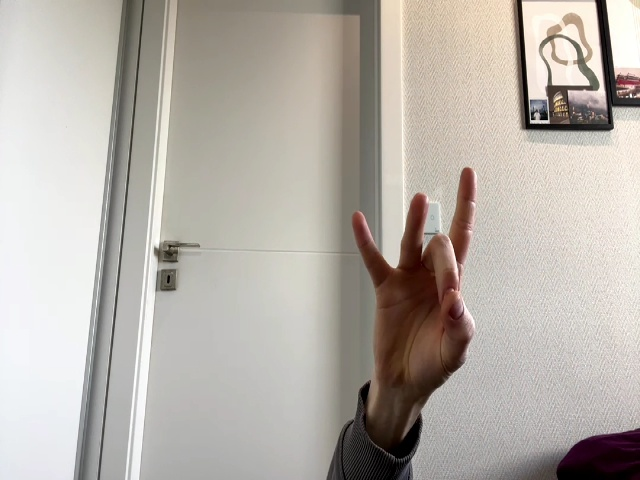G: (354, 167, 478, 391)
